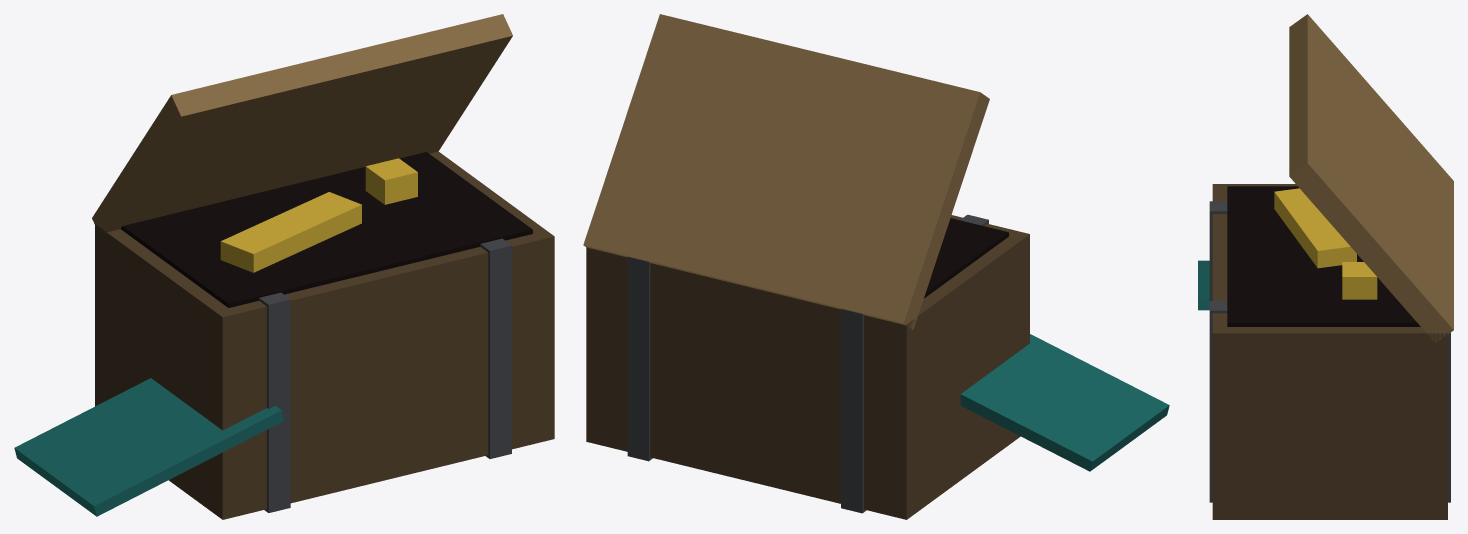
The model's file is mod_cache_crate.glb.
3 views of the same model, side by side, from view 1: azimuth 30°, elevation 25°; view 2: azimuth 150°, elevation 25°; view 3: azimuth 270°, elevation 25° (orthographic). The views are drawn at different scales.
Visible parts, largest first — view 1: mod_cache_crate; view 2: mod_cache_crate; view 3: mod_cache_crate.
Part boxes in pixels (box(x1,y1,x2,y2)): mod_cache_crate: box(14, 14, 554, 519); mod_cache_crate: box(583, 14, 1169, 519); mod_cache_crate: box(1198, 14, 1453, 519).
Bounding box in the file's own units: 1.69 × 1.35 × 0.87.
